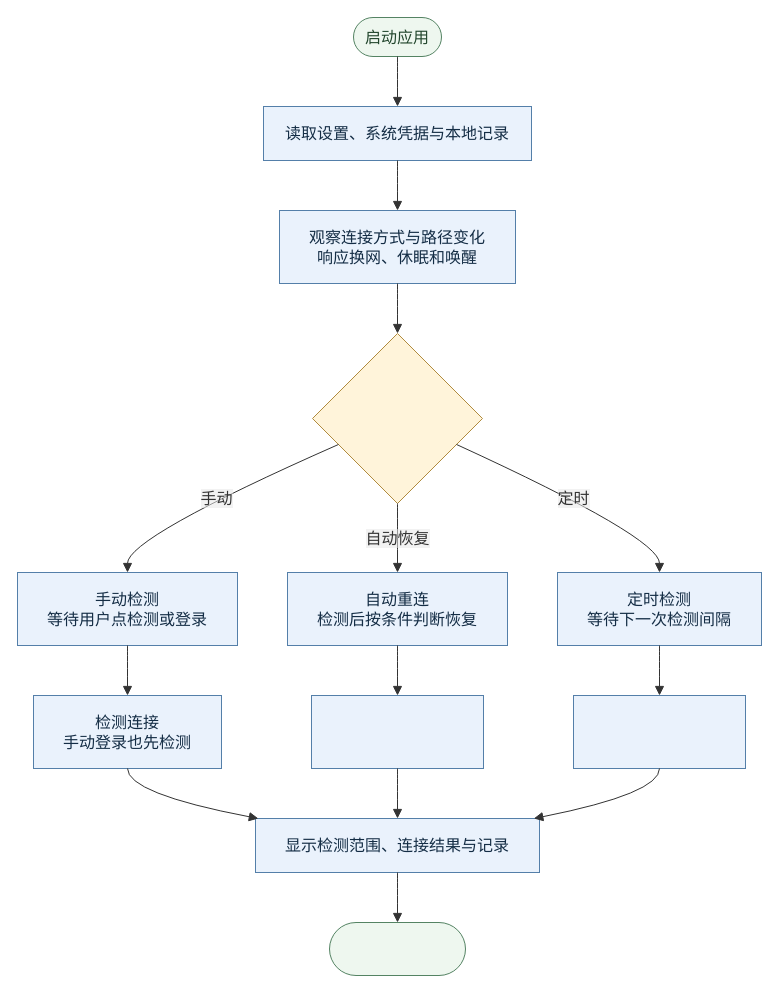
The diagram is 779 pixels wide and 993 high, and some of its shapes have lost their labels. The centre of each missing label's shape, as x and y in pixels:
"保持路径观察 按所选方式继续" goes at (397,949).
"快速或完整检测 不提交账号密码" goes at (659,731).
"用户运行方式" goes at (397,418).
"自动恢复决策 见自动认证流程" goes at (397,731).
